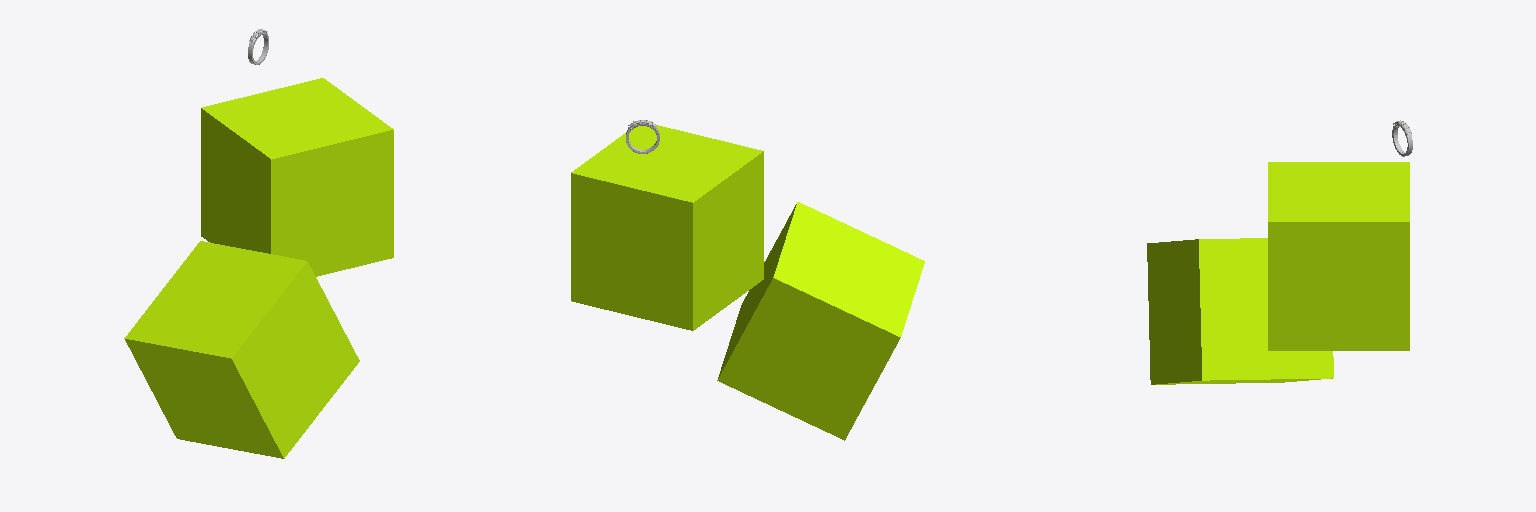
The model's file is Movable1.obj.
3 renders of one model, left to right at view 1: azimuth 30°, elevation 25°; view 2: azimuth 150°, elevation 25°; view 3: azimuth 270°, elevation 25°, orthographic.
Parts seen in each view (by area): view 1: Child, Movable; view 2: Movable, Child; view 3: Movable, Child.
Part boxes in pixels (x1,y1,x2,y2): Child: (124,241,359,458); Movable: (201,78,393,276); Movable: (571,125,763,330); Child: (717,202,924,440); Movable: (1268,162,1409,350); Child: (1147,238,1333,384).
Bounding box in the file's own units: 0.4318 × 0.5139 × 0.3758.